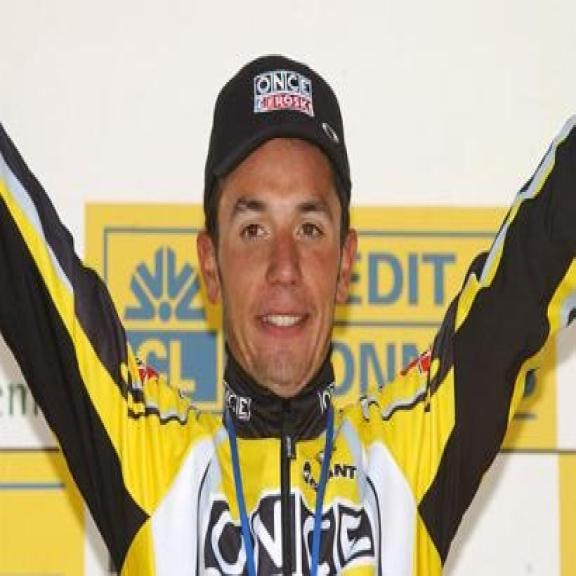face: (199, 152, 360, 401)
